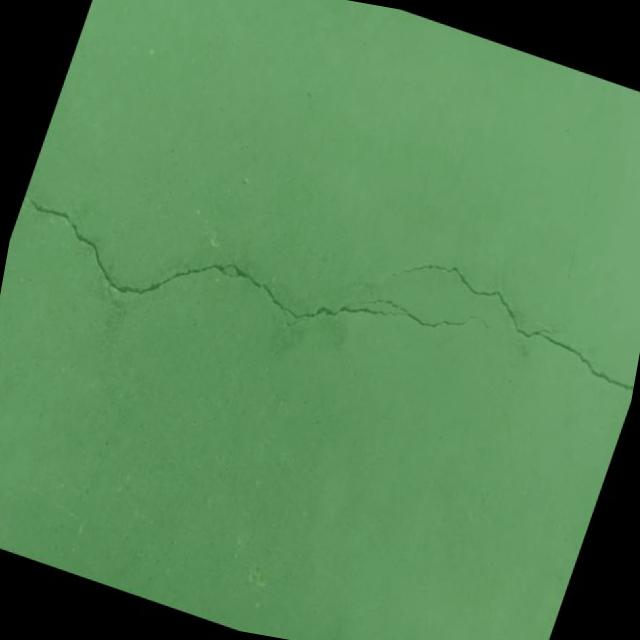crack: (0, 164, 505, 414), (369, 244, 640, 391)
